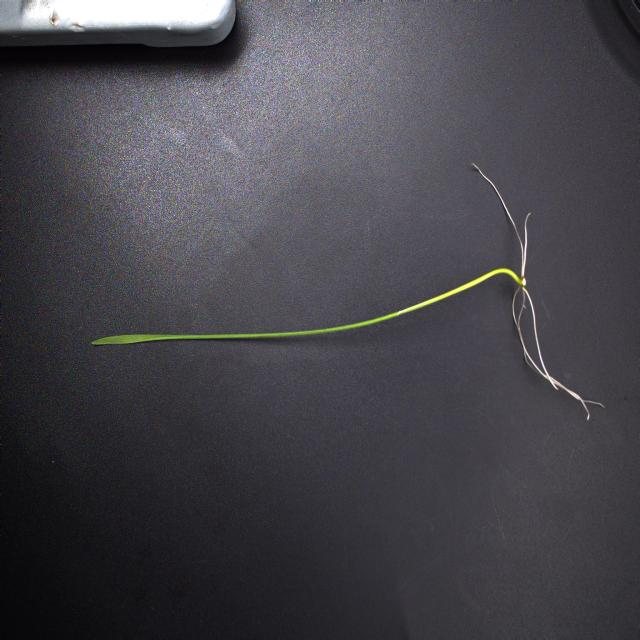leaf: (92, 333, 154, 348)
root: (472, 163, 603, 419)
stem: (92, 268, 522, 344)
